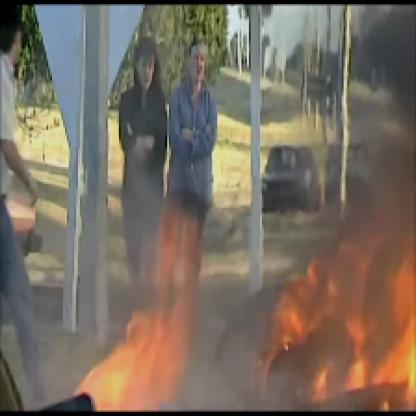Fire: (43, 232, 414, 414)
